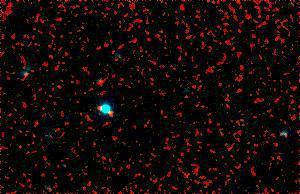star: (95, 99, 125, 129)
